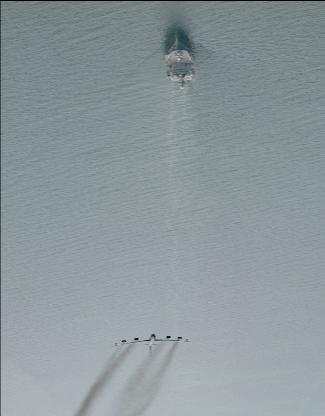B2: (108, 334, 193, 356)
